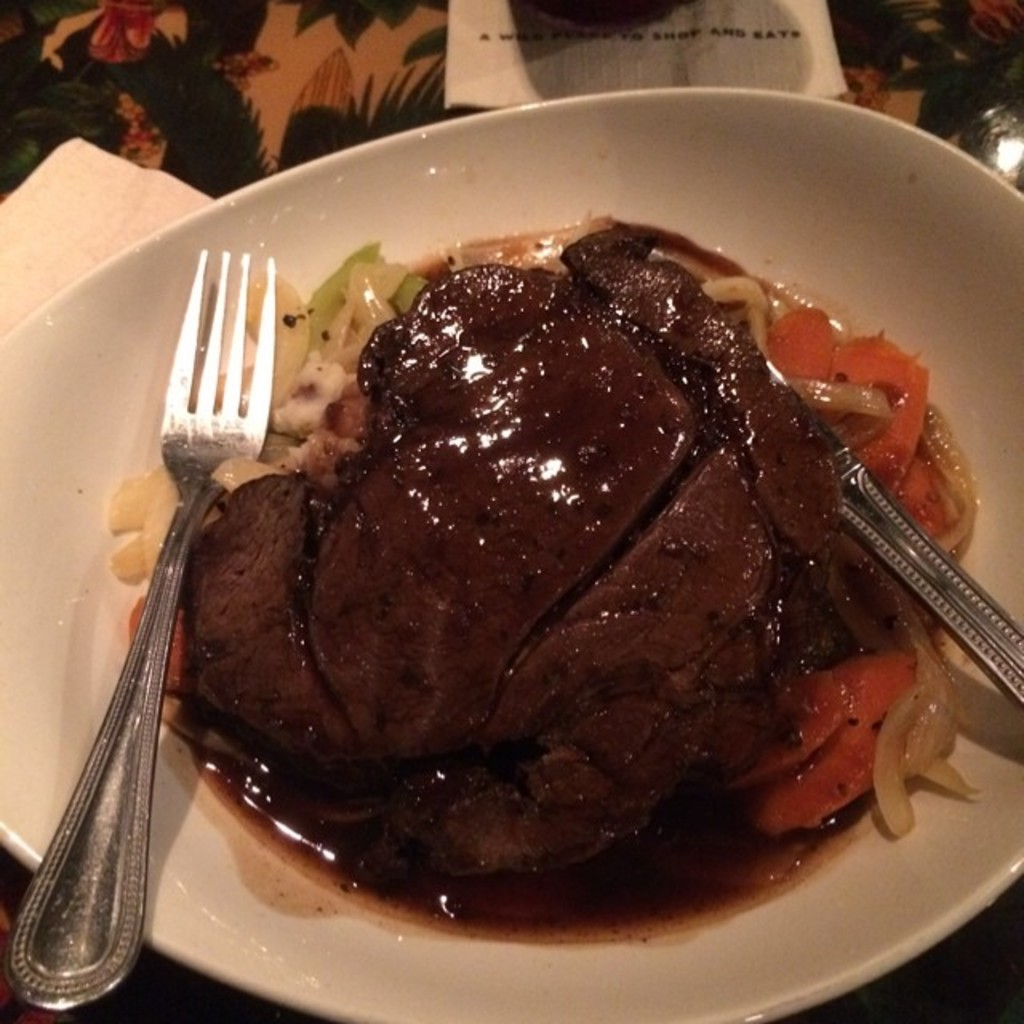fork: (2, 248, 275, 1011)
